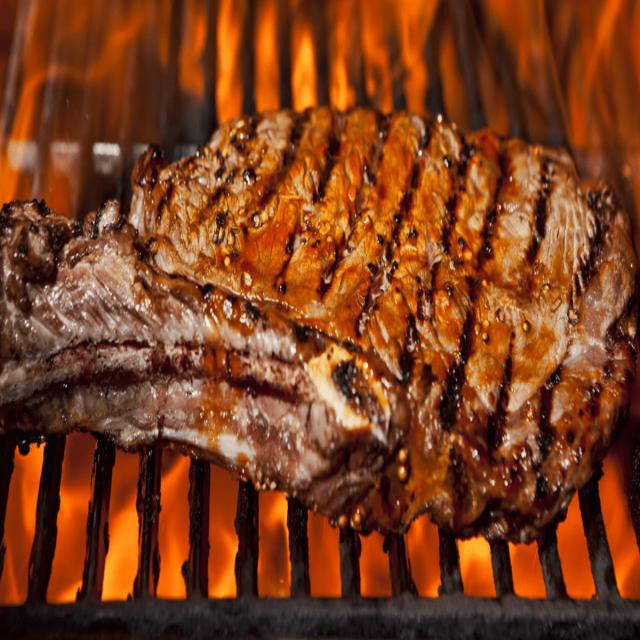carne de res: (1, 107, 634, 560)
